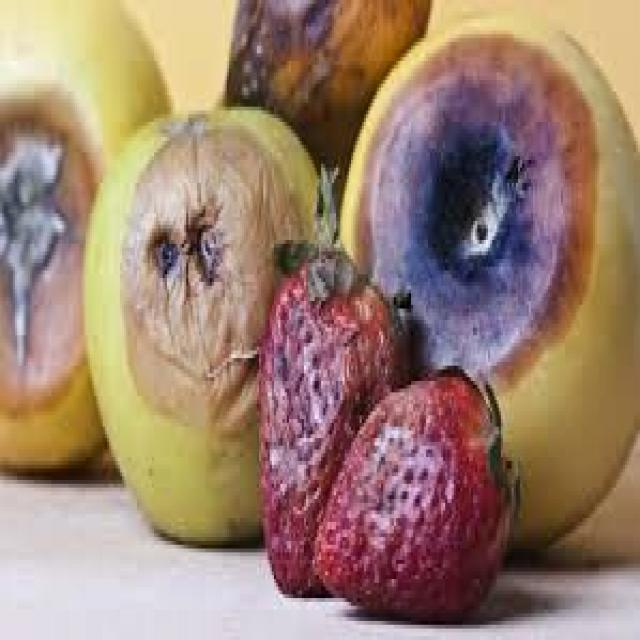organic waste: (334, 4, 638, 552), (79, 95, 332, 545), (0, 0, 167, 476), (253, 156, 411, 594), (315, 362, 520, 625), (218, 0, 432, 171)
